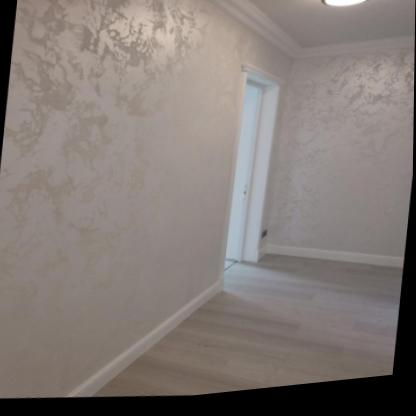Wooden floor: (95, 264, 404, 400)
